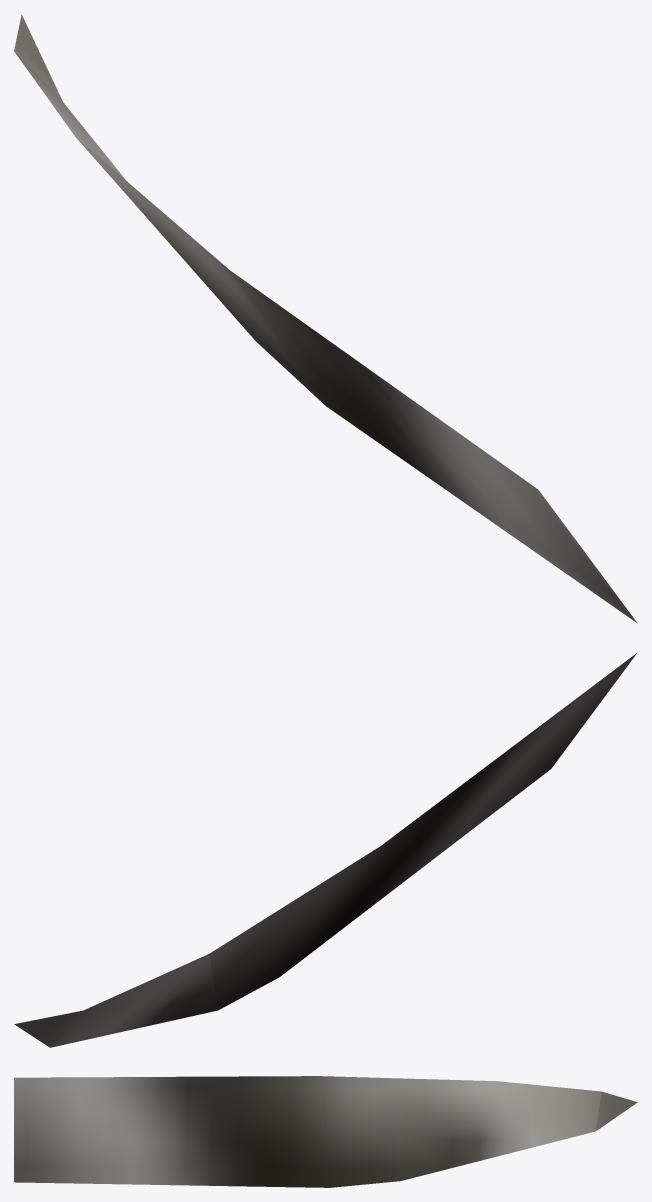
3 renders of one model, top to bottom at view 1: azimuth 30°, elevation 25°; view 2: azimuth 150°, elevation 25°; view 3: azimuth 270°, elevation 25°, orthographic. The views are drawn at different scales.
Bounding box in the file's own units: 0.0075 × 0.0114 × 0.0754.
1 material, 1 textured.
